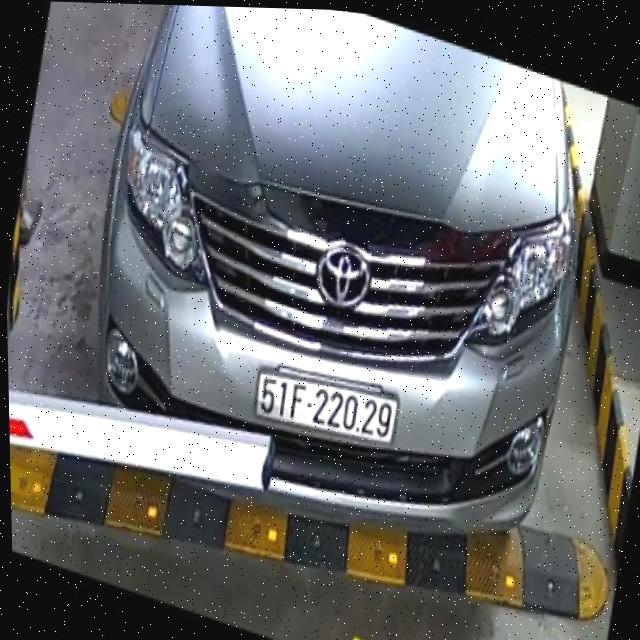car: (66, 2, 599, 550)
plate: (252, 364, 404, 449)
